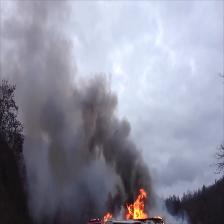fire: (127, 195, 144, 219)
smoke: (31, 65, 75, 124), (80, 105, 113, 146), (115, 139, 142, 189)
